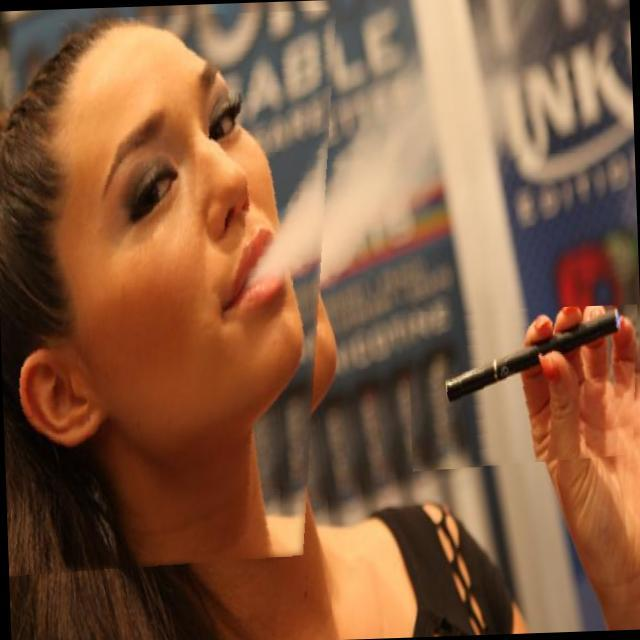cigarette: (406, 304, 640, 472)
